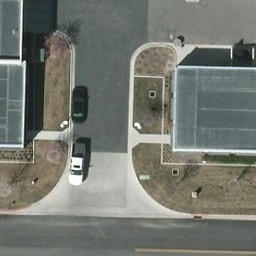car: (69, 86, 91, 124), (68, 142, 86, 185)
